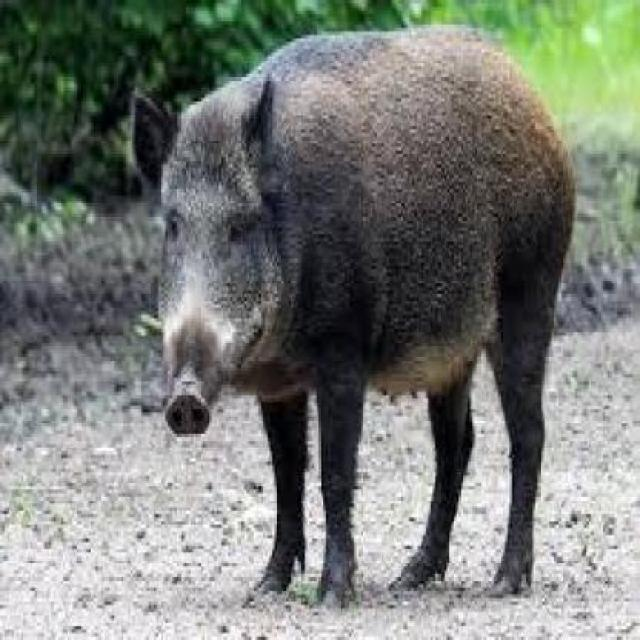wildboar: (126, 32, 576, 611)
